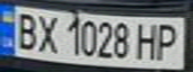0: (78, 17, 96, 57)
1: (60, 15, 84, 56)
2: (96, 18, 115, 58)
8: (112, 19, 136, 60)
B: (9, 9, 42, 52)
H: (133, 19, 163, 61)
P: (151, 20, 184, 61)
X: (33, 11, 60, 54)
